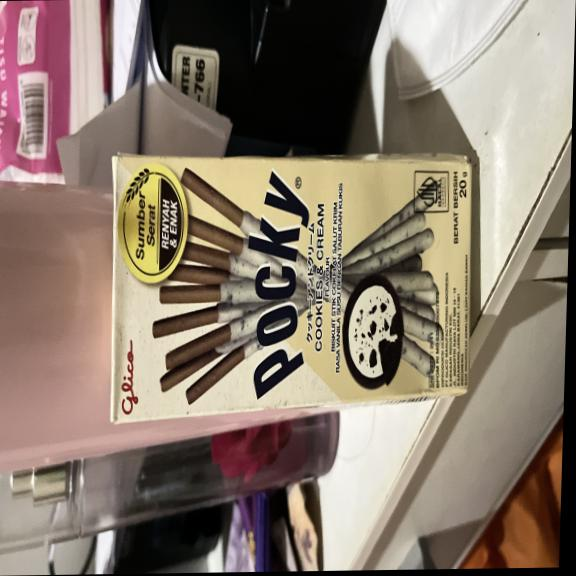Kertas: (112, 145, 474, 422)
